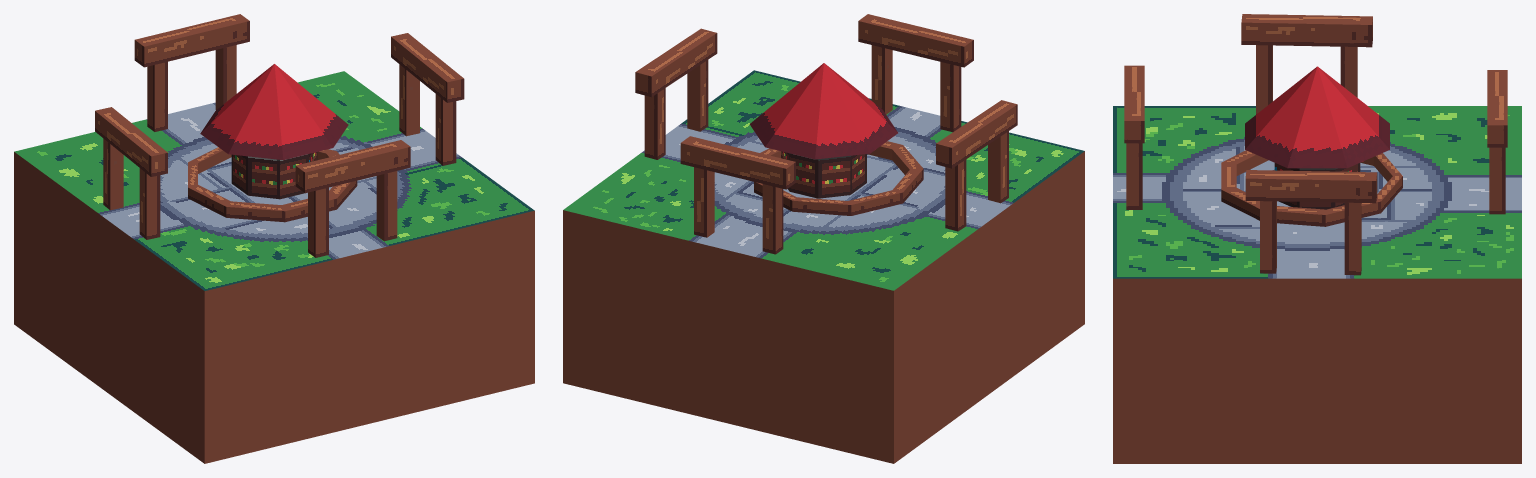
File: GrandMarketArea.gltf
3 renders of one model, left to right at view 1: azimuth 30°, elevation 25°; view 2: azimuth 150°, elevation 25°; view 3: azimuth 270°, elevation 25°, orthographic. The views are drawn at different scales.
Parts seen in each view (by area): view 1: mesh (×5), cone, Tables, cylinder; view 2: mesh (×5), cone, Tables, cylinder; view 3: mesh (×5), cone, Tables, cylinder.
Boxes of the visible parts, x1,y1,x2,y2 form: mesh (×5): (14,14,534,463); cone: (200,64,348,159); Tables: (188,147,357,222); cylinder: (231,152,317,199); mesh (×5): (563,14,1084,463); cone: (749,63,897,159); Tables: (754,141,923,215); cylinder: (781,151,866,198); mesh (×5): (1113,14,1521,463); cone: (1245,66,1389,168); Tables: (1221,150,1402,226); cylinder: (1274,163,1360,209).
Size of the model in its own units: 6.25 by 5.25 by 6.25.
1 material, 1 textured.
